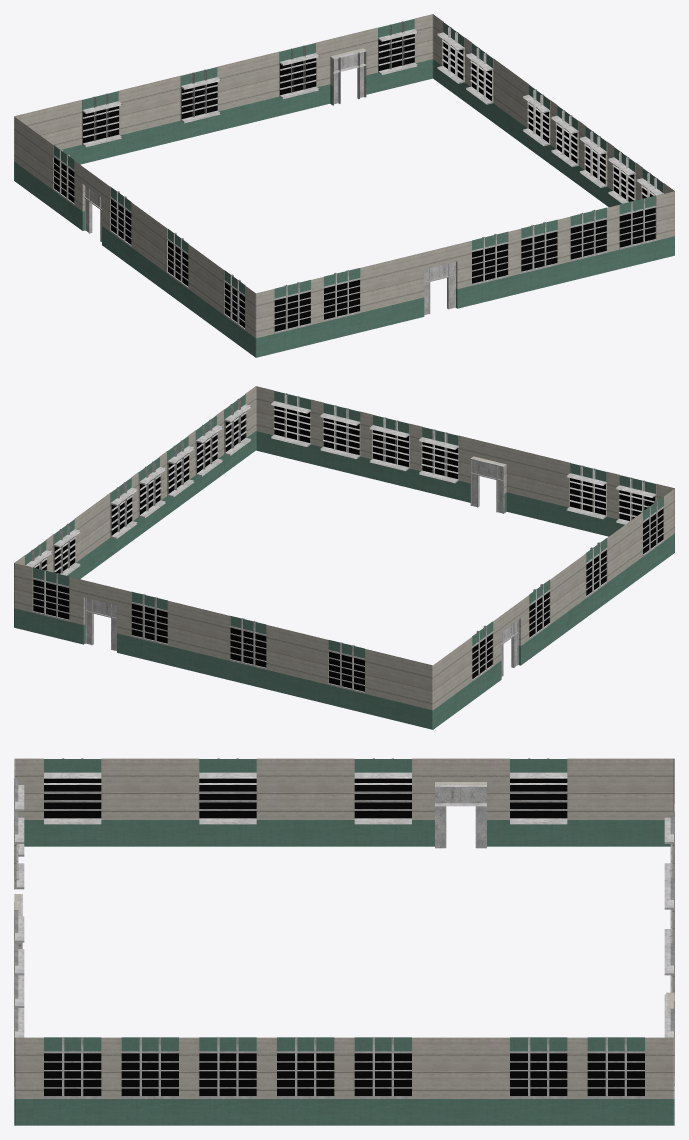
The model's file is BuildingD_Bottom_Shell_VarB.fbx.
The picture shows the model from 3 angles, top to bottom: view 1: azimuth 30°, elevation 25°; view 2: azimuth 150°, elevation 25°; view 3: azimuth 270°, elevation 25°; orthographic projection. The views are drawn at different scales.
Parts seen in each view (by area): view 1: BuildingD_Bottom_Shell_VarB; view 2: BuildingD_Bottom_Shell_VarB; view 3: BuildingD_Bottom_Shell_VarB.
Part boxes in pixels (bbox=[...]): BuildingD_Bottom_Shell_VarB: bbox=[14, 14, 674, 357]; BuildingD_Bottom_Shell_VarB: bbox=[14, 386, 674, 729]; BuildingD_Bottom_Shell_VarB: bbox=[14, 758, 674, 1125].
Size of the model in its own units: 3404 by 500 by 3404.
